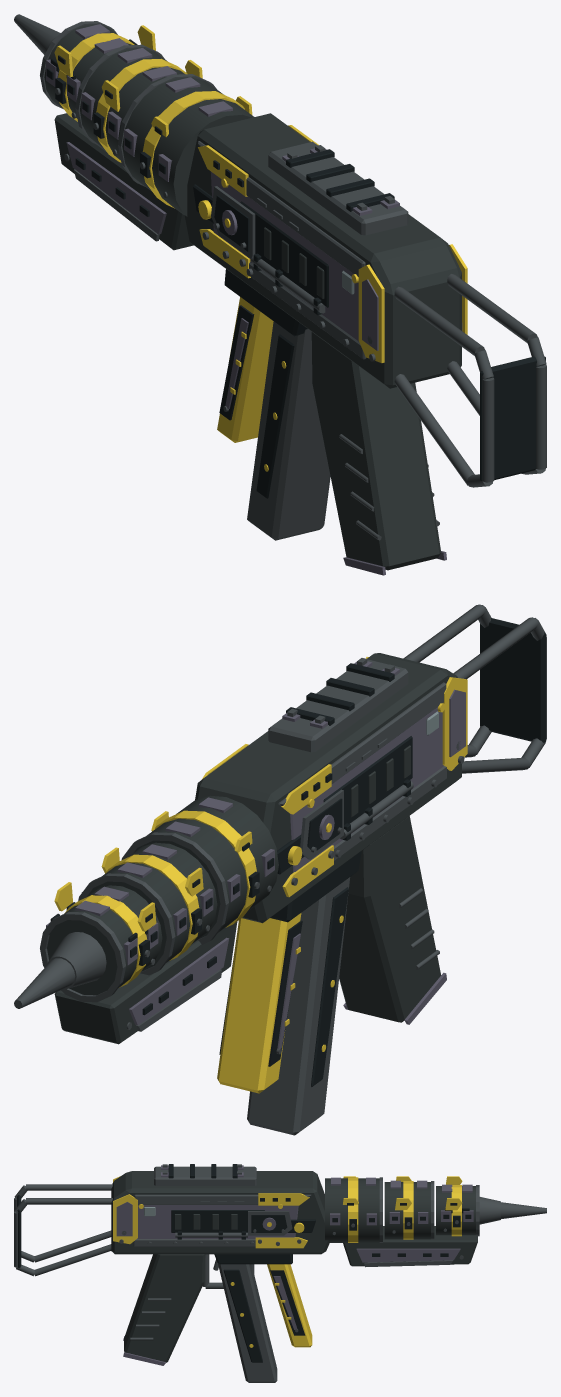
Rendered from smg_0.glb.
The picture shows the model from 3 angles, top to bottom: view 1: azimuth 30°, elevation 25°; view 2: azimuth 150°, elevation 25°; view 3: azimuth 270°, elevation 25°; orthographic projection. The views are drawn at different scales.
Visible parts, largest first — view 1: Weapon_smg_v1; view 2: Weapon_smg_v1; view 3: Weapon_smg_v1.
Part boxes in pixels (x1=…): Weapon_smg_v1: x1=14, y1=14, x2=546, y2=575; Weapon_smg_v1: x1=14, y1=604, x2=546, y2=1135; Weapon_smg_v1: x1=14, y1=1164, x2=546, y2=1382.
Size of the model in its own units: 0.084 by 0.2695 by 0.624.
